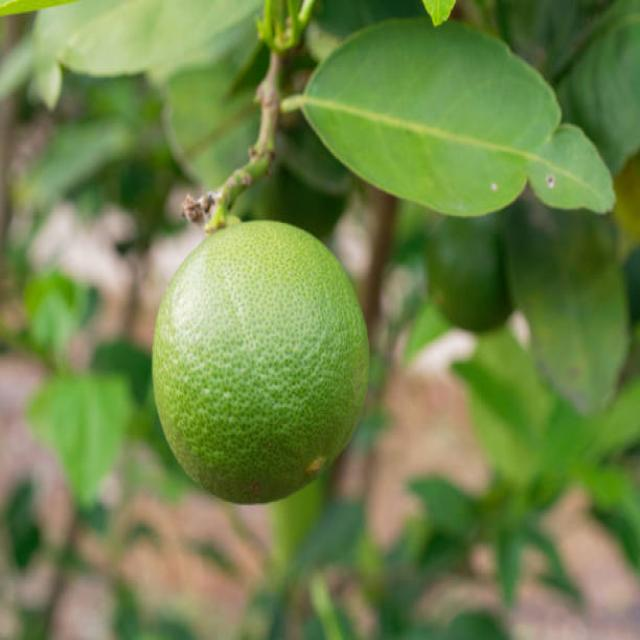Unripe: (153, 219, 371, 502)
